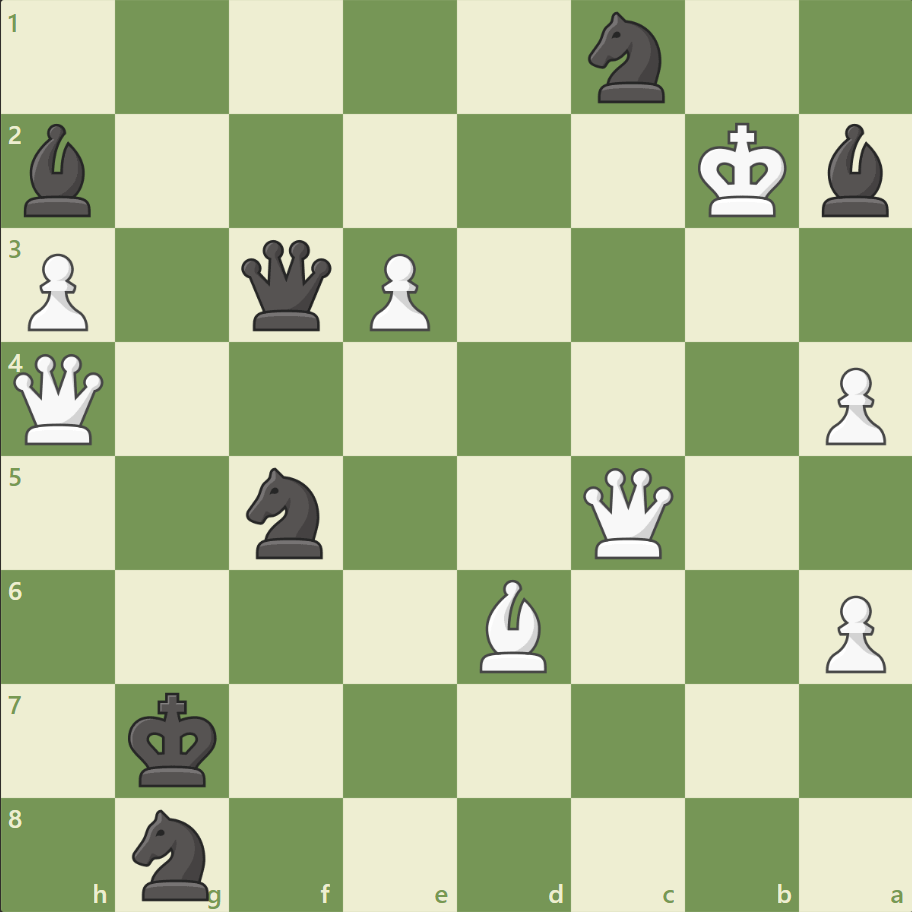B: (471, 574, 555, 676)
K: (692, 117, 792, 225)
P: (20, 246, 95, 337), (815, 586, 889, 677), (815, 359, 889, 450), (361, 246, 435, 337)
Q: (10, 349, 109, 449), (578, 463, 677, 562)
b: (812, 120, 896, 222), (17, 120, 101, 222)
k: (124, 685, 224, 793)
n: (124, 802, 222, 904), (238, 461, 335, 564), (579, 7, 676, 110)
q: (237, 236, 336, 335)
